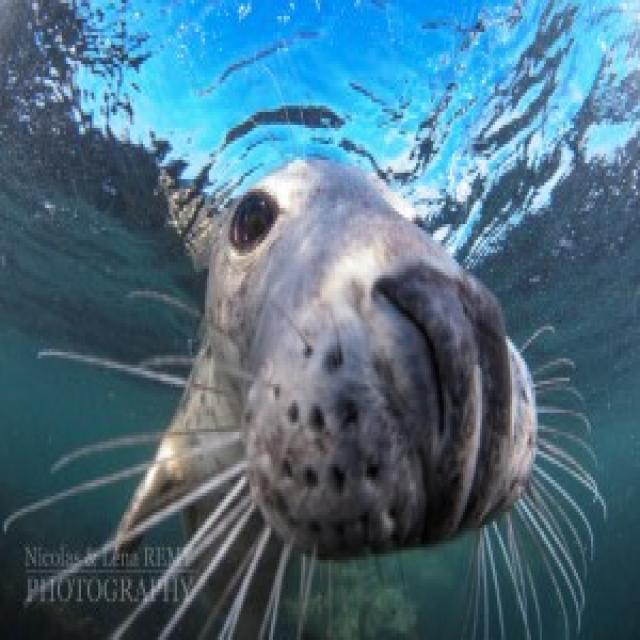Seal: (141, 125, 544, 640)
